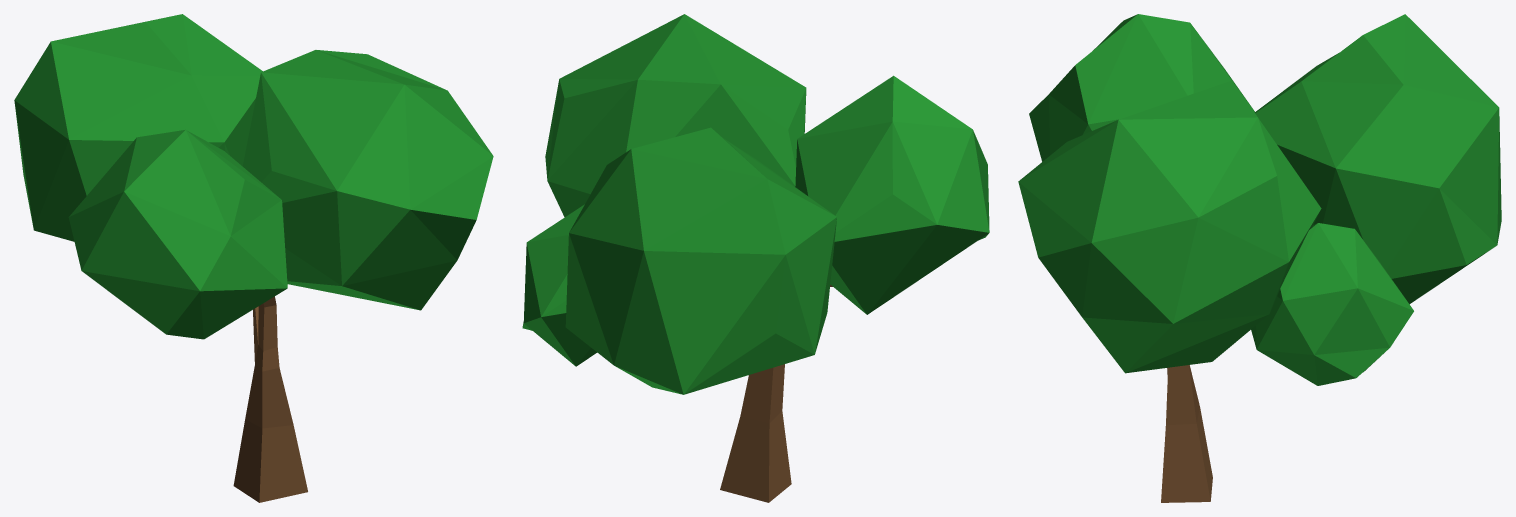
Rendered from tree1.fbx.
3 renders of one model, left to right at view 1: azimuth 30°, elevation 25°; view 2: azimuth 150°, elevation 25°; view 3: azimuth 270°, elevation 25°, orthographic. The views are drawn at different scales.
Parts seen in each view (by area): view 1: Tree1; view 2: Tree1; view 3: Tree1.
Part boxes in pixels (left/top/right/bottom): Tree1: left=14, top=14, right=493, bottom=502; Tree1: left=522, top=14, right=989, bottom=502; Tree1: left=1018, top=14, right=1501, bottom=502.
Bounding box in the file's own units: 473 × 453 × 457.
